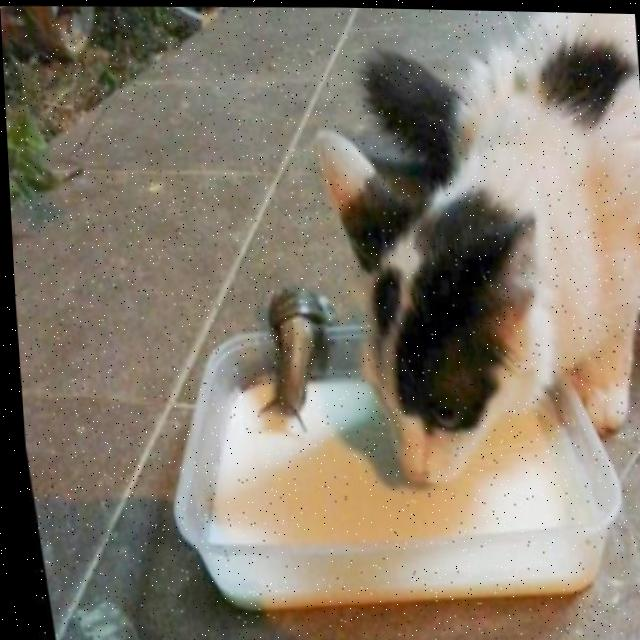Cats: (294, 5, 640, 496)
